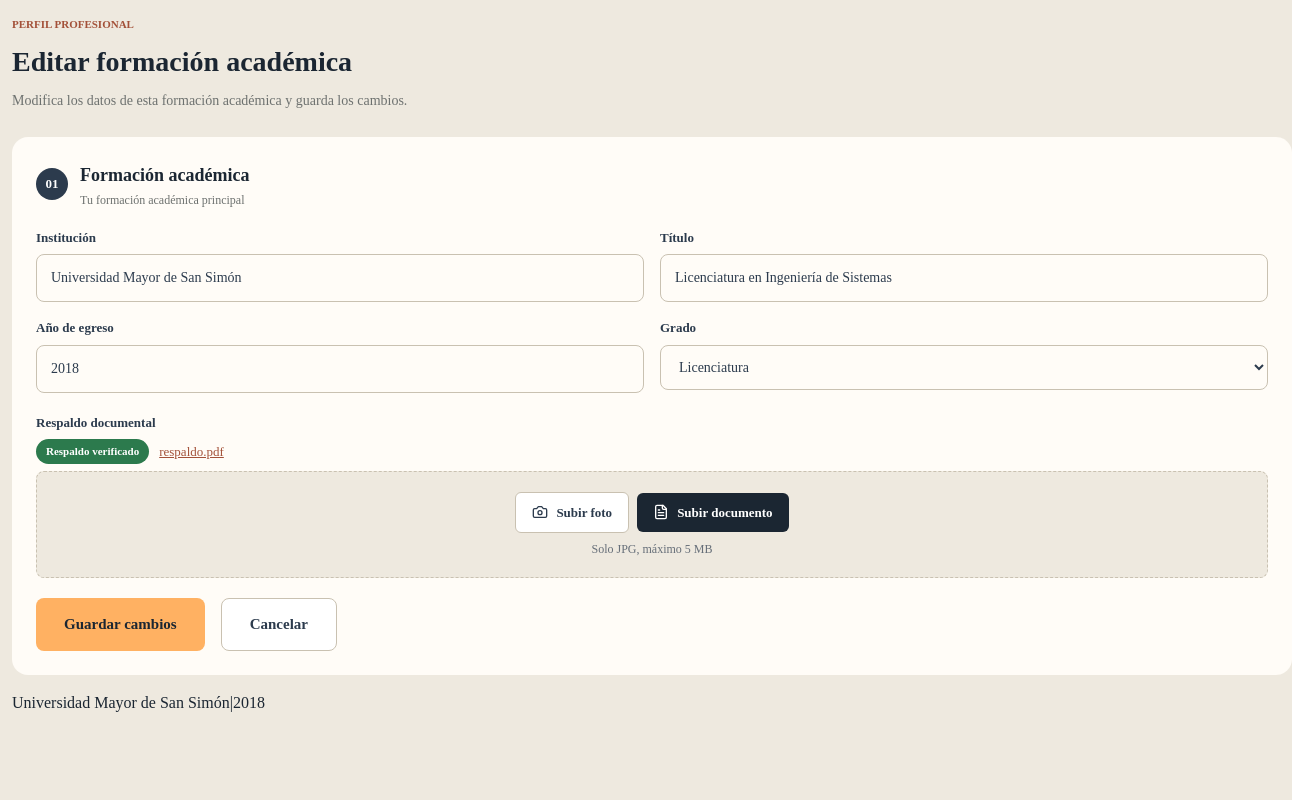
Test: EditEducationForm › el propio registro sin cambios no cuenta como duplicado
Click the button "Guardar cambios": (120, 624) [36,598,205,650]
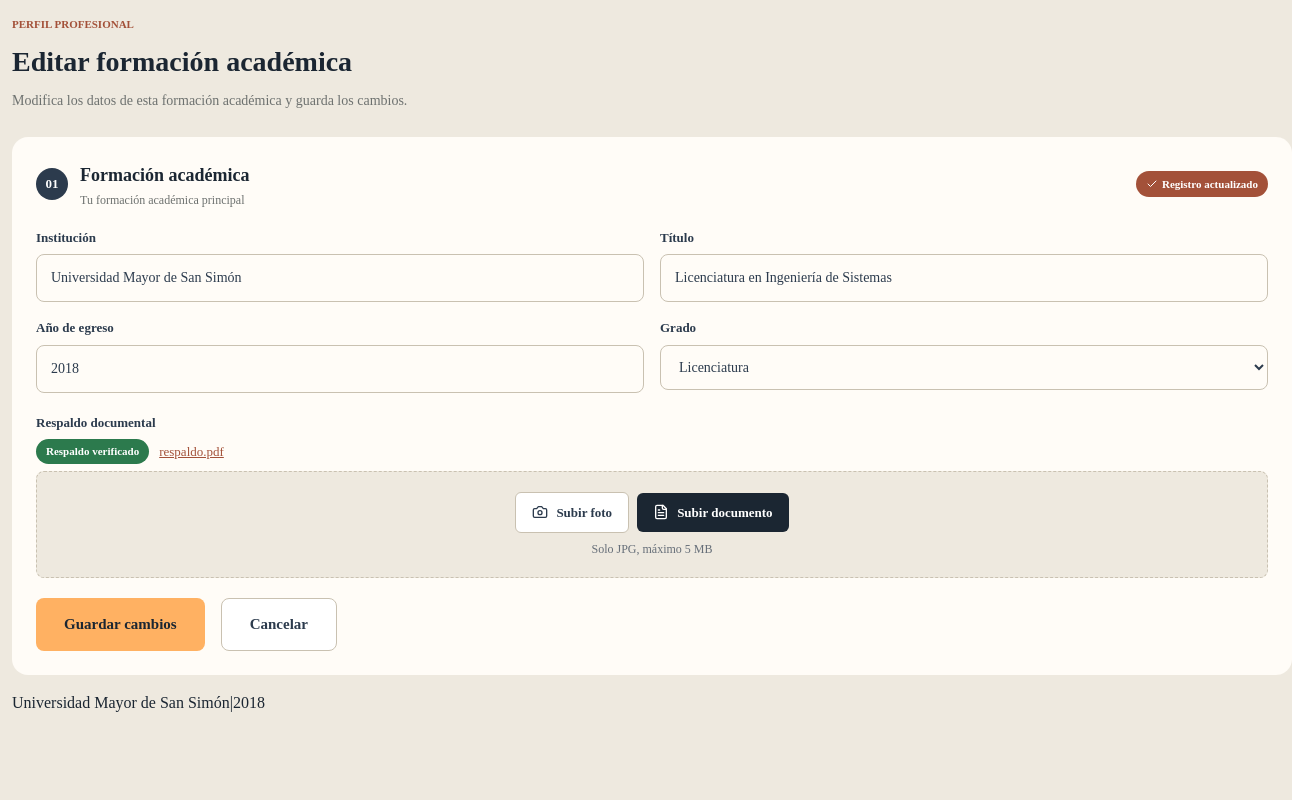
Now the message reads "Registro actualizado", box [1162,178,1258,190]
